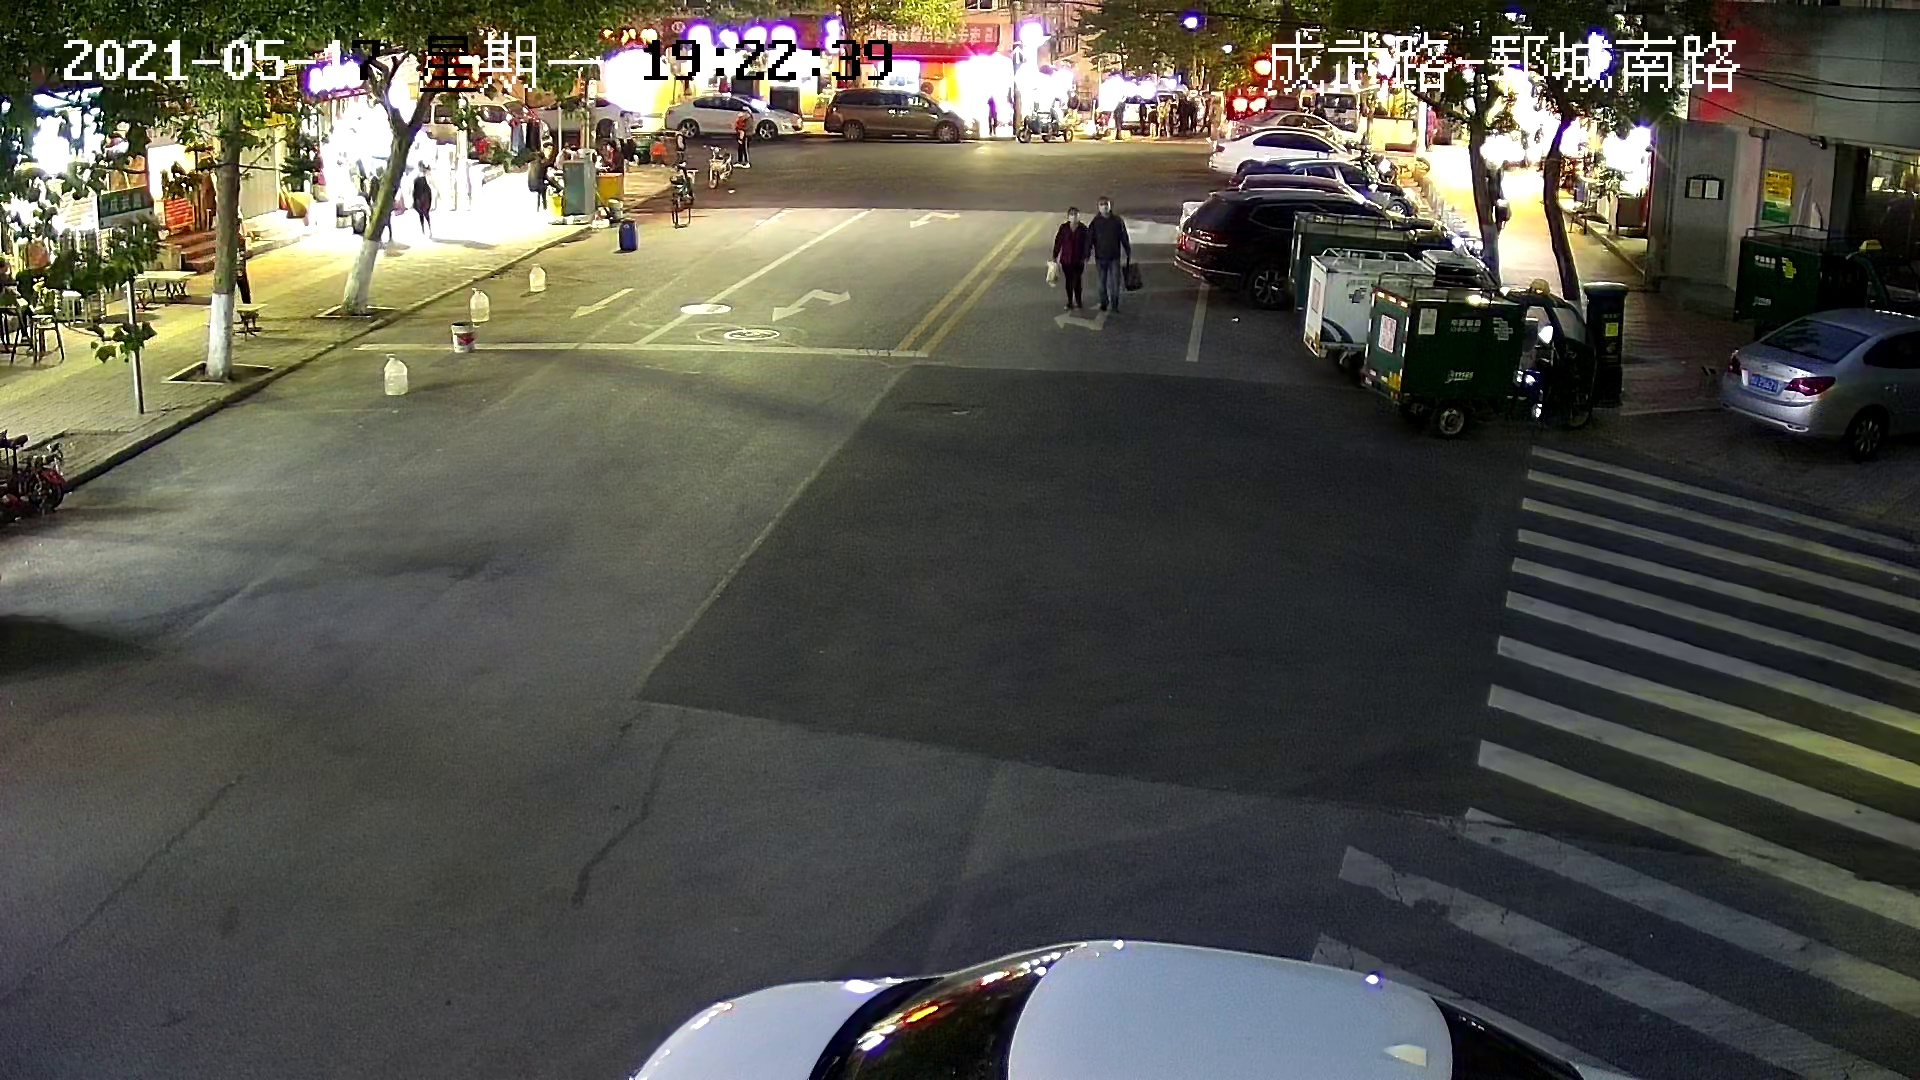chair: (33, 320, 65, 361), (123, 286, 148, 309)
table: (202, 301, 268, 342), (1, 303, 34, 361), (133, 270, 183, 306)
table_chair: (0, 297, 69, 367), (121, 266, 185, 310)
